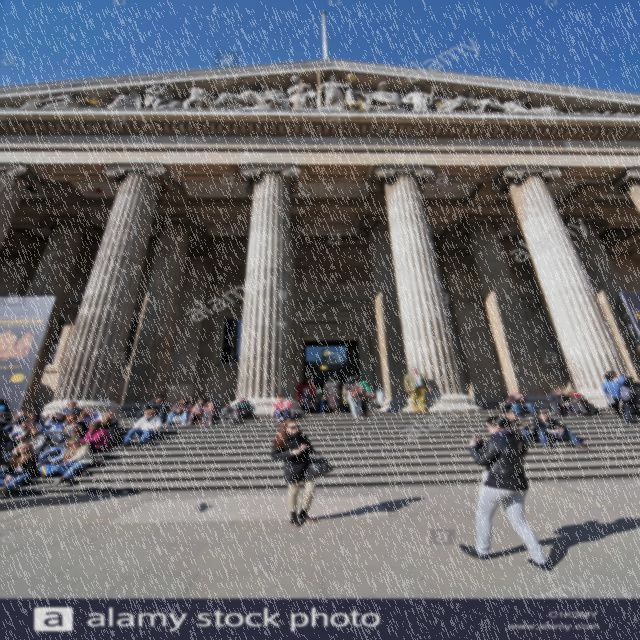pessoa: (11, 70, 638, 120), (454, 413, 556, 572), (475, 516, 639, 572), (268, 418, 336, 528), (295, 496, 430, 528), (531, 410, 592, 450), (0, 442, 41, 500), (49, 438, 94, 489), (36, 428, 84, 468), (118, 408, 164, 448), (0, 398, 44, 433), (403, 366, 434, 414), (128, 395, 170, 428), (75, 420, 109, 460), (544, 387, 587, 418), (600, 372, 627, 420), (342, 376, 371, 420), (564, 388, 604, 418), (499, 389, 539, 419), (160, 396, 193, 428), (503, 412, 533, 445), (185, 396, 217, 426), (294, 376, 318, 414), (268, 393, 296, 425), (322, 376, 344, 416), (354, 374, 376, 413), (226, 396, 251, 426), (60, 414, 91, 438), (100, 411, 120, 448), (42, 412, 70, 432), (218, 396, 236, 422), (76, 408, 104, 423), (308, 388, 324, 414), (61, 400, 84, 416), (18, 418, 44, 432), (358, 401, 372, 418), (620, 372, 634, 388), (608, 369, 618, 382)
